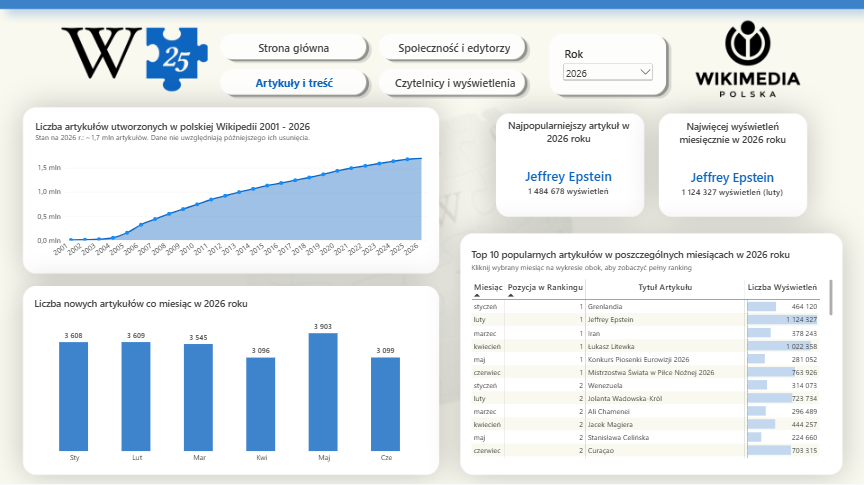

The page's visual inventory and layout, read from the dashboard file:
{"tool":"powerbi","page":{"name":"2_Artykuły i treść","canvas":[1920,1080],"ordinal":1},"visuals":[{"type":"actionButton","box":[539.1,155.5,227.3,57.8],"z":0},{"type":"actionButton","box":[845.3,74.3,329.8,65.5],"z":1000},{"type":"actionButton","box":[846.9,155.5,329.7,57.8],"z":2000},{"type":"actionButton","box":[513.3,77.3,278.6,58.3],"z":3000},{"type":"clusteredColumnChart","fields":{"Category":["DimDate.Miesiąc Skrót"],"Y":["Sum(2_nowe_artykuly_clean.Liczba Nowych Artykułów)"]},"box":[60.5,644.7,905.3,403.9],"z":4000},{"type":"areaChart","title":"Liczba artykułów utworzonych w polskiej Wikipedii 2001 - 2026","fields":{"Category":["DimDate.Rok"],"Y":["_MEASURES.Suma Skumulowana Artykulow mln"]},"box":[61.8,250,902.6,351.3],"z":5000},{"type":"tableEx","fields":{"Values":["DimDate.Miesiąc","5_top_1000_artykulow_clean.Pozycja w Rankingu","5_top_1000_artykulow_clean.Tytuł Artykułu","5_top_1000_artykulow_clean.Liczba Wyświetleń"]},"box":[1030.3,535.7,835.9,499],"z":6000},{"type":"cardVisual","fields":{"Data":["_MEASURES.Top Artykul Nazwa Rok"]},"box":[1109.5,265.1,309.5,207.9],"z":7000},{"type":"cardVisual","fields":{"Data":["_MEASURES.Największy Szczyt Miesięczny"]},"box":[1473.7,265.8,309.2,209.2],"z":8000},{"type":"slicer","title":"Rok","fields":{"Values":["DimDate.Rok"]},"box":[1240,93.3,208.9,86.7],"z":9000}]}

Visuals, with their boxes in screenshot pixels (x1, y1, x2, y2), scaled from the page's 1920x1080 canvas onto the 864x485 screenshot:
actionButton: detection(243, 70, 345, 96)
actionButton: detection(380, 33, 529, 63)
actionButton: detection(381, 70, 529, 96)
actionButton: detection(231, 35, 356, 61)
clusteredColumnChart - DimDate.Miesiąc Skrót x Sum(2_nowe_artykuly_clean.Liczba Nowych Artykułów): detection(27, 290, 435, 471)
"Liczba artykułów utworzonych w polskiej Wikipedii 2001 - 2026" areaChart: detection(28, 112, 434, 270)
tableEx - DimDate.Miesiąc x 5_top_1000_artykulow_clean.Pozycja w Rankingu: detection(464, 241, 840, 465)
cardVisual - _MEASURES.Top Artykul Nazwa Rok: detection(499, 119, 639, 212)
cardVisual - _MEASURES.Największy Szczyt Miesięczny: detection(663, 119, 802, 213)
"Rok" slicer: detection(558, 42, 652, 81)
